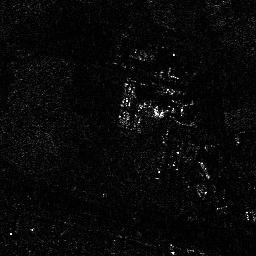ship: (118, 77, 136, 128)
